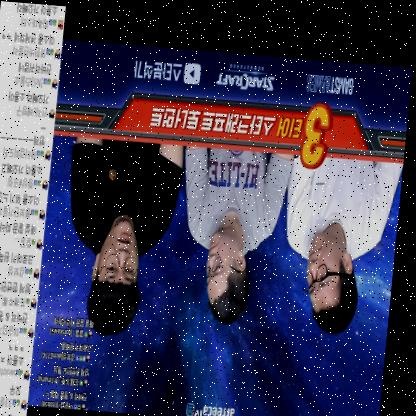streamer: (59, 135, 187, 338), (278, 148, 406, 332), (174, 143, 295, 324)
